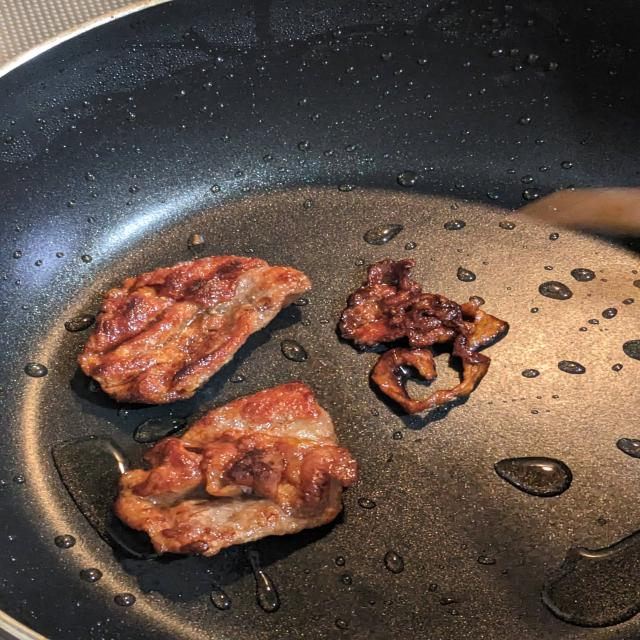overcooked pork: (109, 374, 360, 565), (53, 248, 326, 411), (323, 249, 518, 424)
